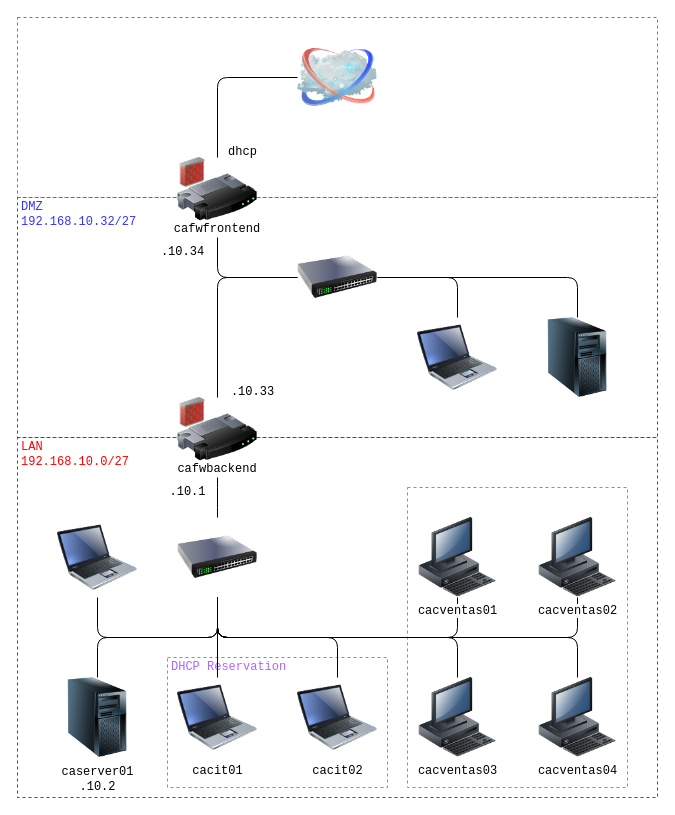
Some shapes in this 675 by 815 pixel diagram are drawn without their labels. The shapes that lost their labels are listed below. From the top down, each one's box as (x1, y1, x2, y2) in pixels, then its label:
(16, 16, 658, 198): WAN
(417, 317, 497, 397): cacdmz .10.36
(537, 317, 617, 397): caserver02 .10.35
(57, 517, 137, 597): caclan .10.5
(406, 486, 628, 788): DHCP - .10.11-.10.30
